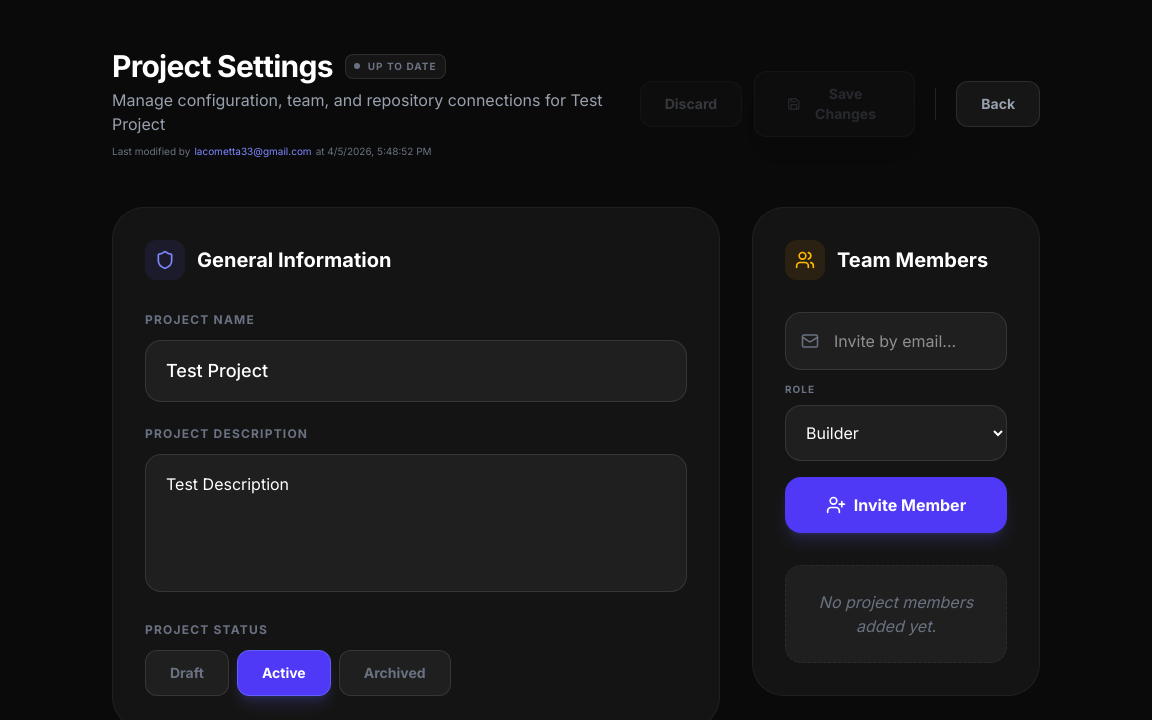
Test: ProjectSettings › discards changes when discard button is clicked
Step 1. Replace the text in the field showing "Test Project" with "Updated Project" → (416, 371), box 145,340 -> 687,402
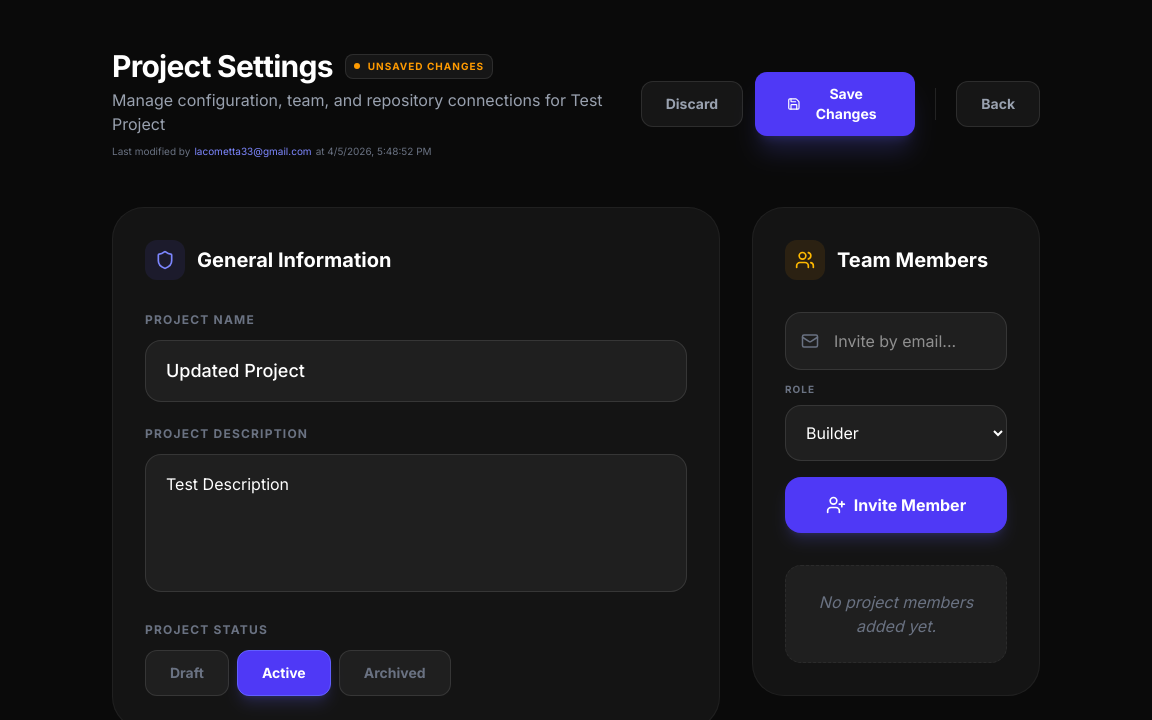
Step 2. Click the button "Discard" → click(692, 104), box 641,80 -> 743,126
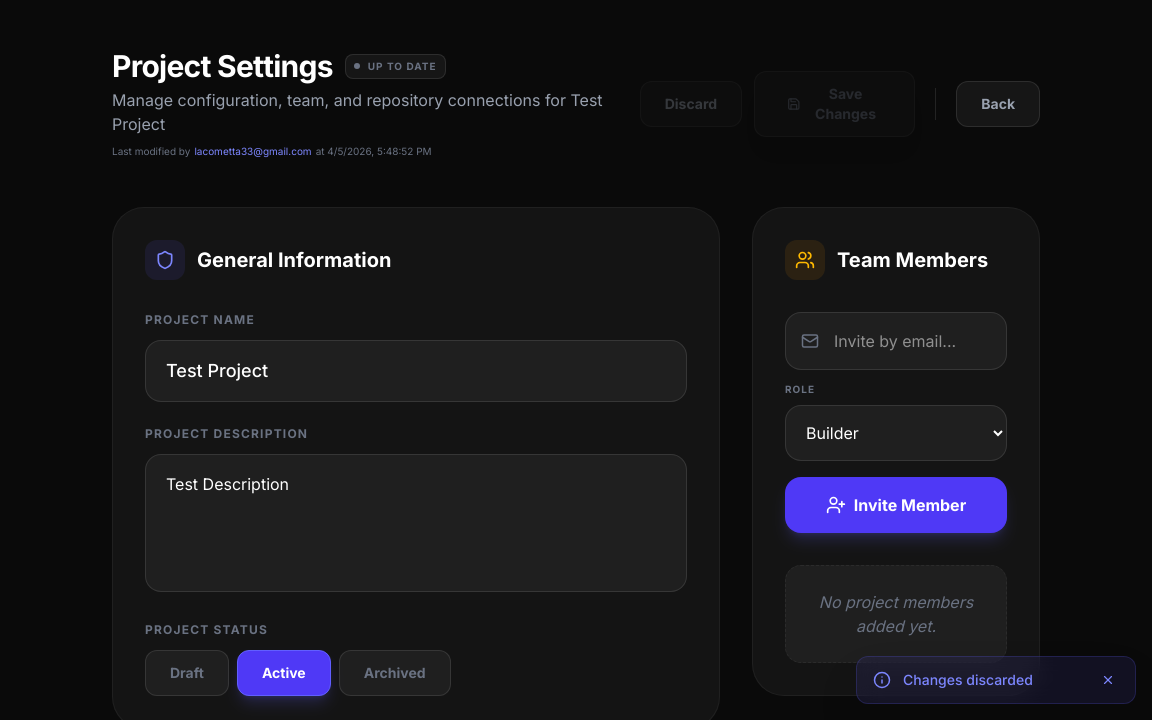
expect the field showing "Test Project" is shown: met, box 145,340 -> 687,402
expect the text "Up to date" is shown: met, box 368,58 -> 436,74
